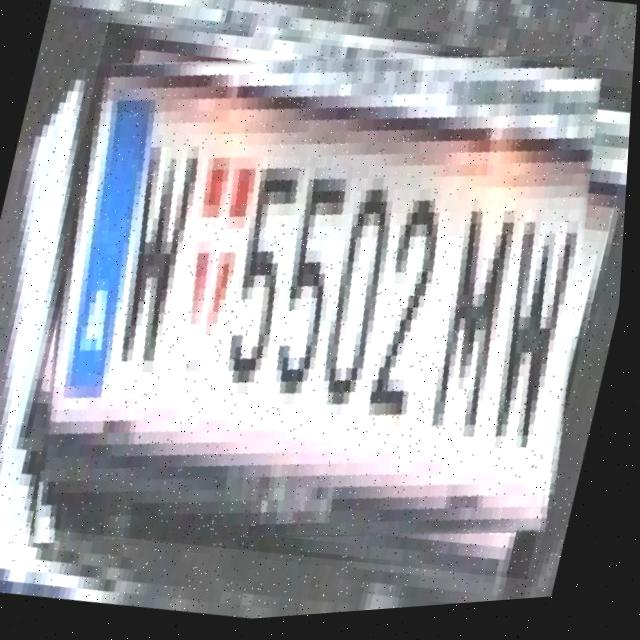LicensePlate: (0, 0, 639, 619)
